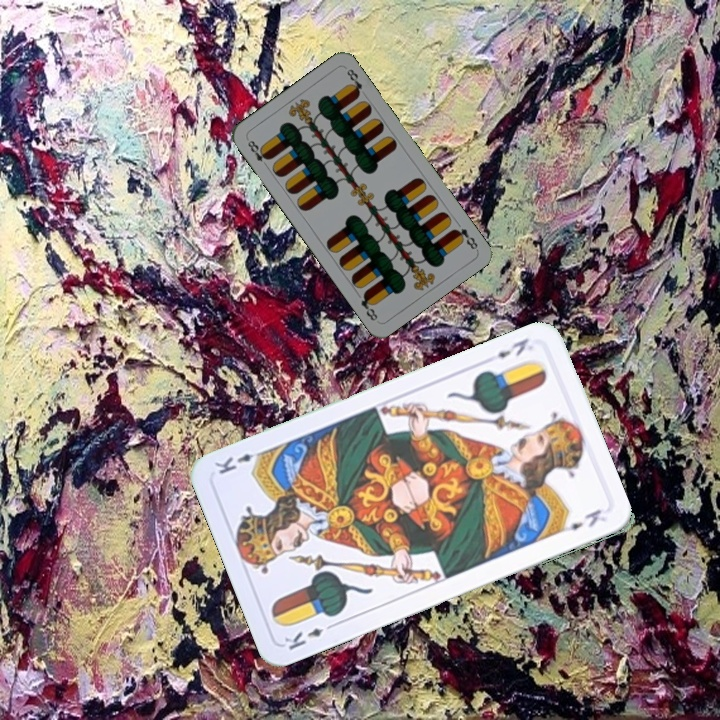E8: (243, 136, 272, 171), (449, 224, 480, 252)
EK: (280, 619, 338, 653), (493, 333, 532, 361)
